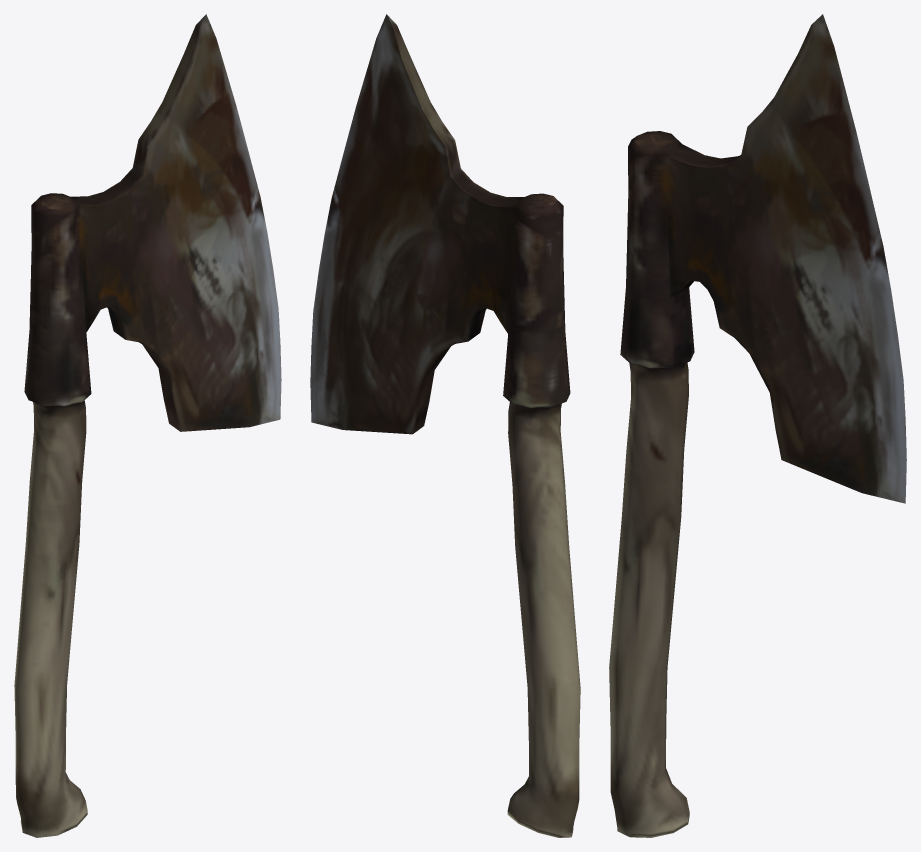
File: weapon-reclaimer.glb
3 renders of one model, left to right at view 1: azimuth 30°, elevation 25°; view 2: azimuth 150°, elevation 25°; view 3: azimuth 330°, elevation 25°, orthographic. The views are drawn at different scales.
Visible parts, largest first — view 1: lumberjackCAxe_MDL_q; view 2: lumberjackCAxe_MDL_q; view 3: lumberjackCAxe_MDL_q.
Part boxes in pixels (box(x1,y1,x2,y2)): lumberjackCAxe_MDL_q: box(14, 14, 281, 837); lumberjackCAxe_MDL_q: box(310, 14, 580, 837); lumberjackCAxe_MDL_q: box(609, 14, 906, 837).
Size of the model in its own units: 0.3639 by 1.01 by 0.0735.
Materials: 1 (1 with a texture image).
